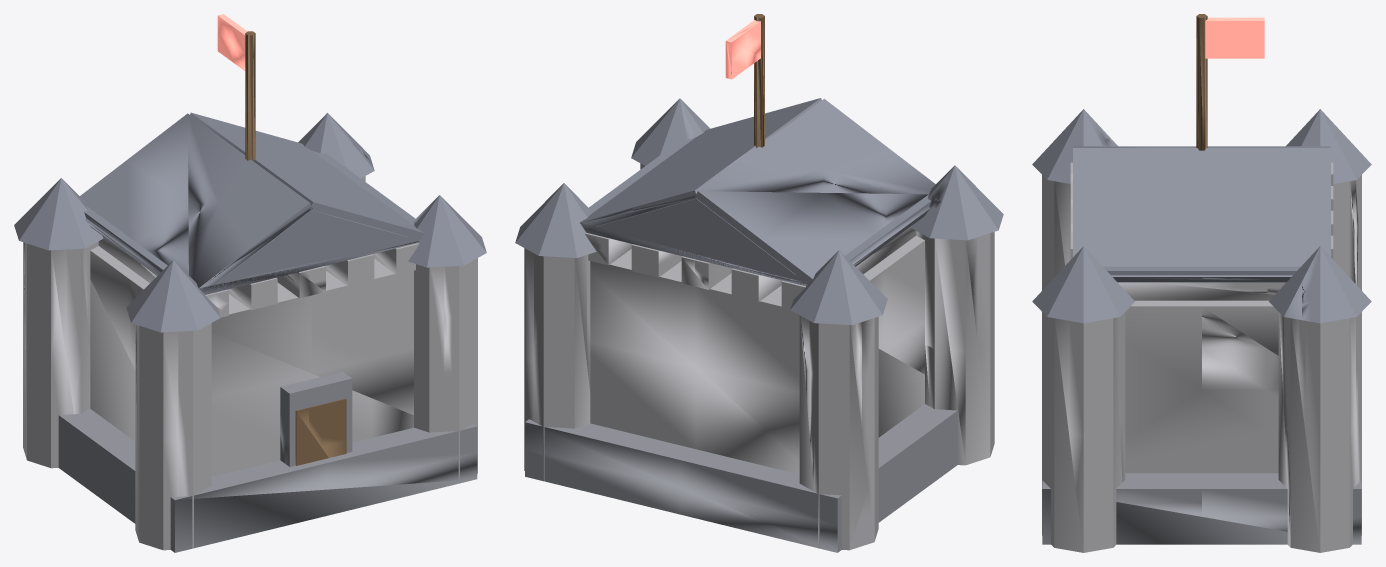
The model's file is castle.glb.
3 renders of one model, left to right at view 1: azimuth 30°, elevation 25°; view 2: azimuth 150°, elevation 25°; view 3: azimuth 270°, elevation 25°, orthographic. The views are drawn at different scales.
Visible parts, largest first — view 1: KeepBase; view 2: KeepBase; view 3: KeepBase.
Boxes of the visible parts, box(x1,y1,x2,y2) form: KeepBase: box(14, 14, 486, 552); KeepBase: box(515, 14, 1003, 552); KeepBase: box(1032, 14, 1371, 552).
Bounding box in the file's own units: 3.48 × 4.05 × 2.77.
